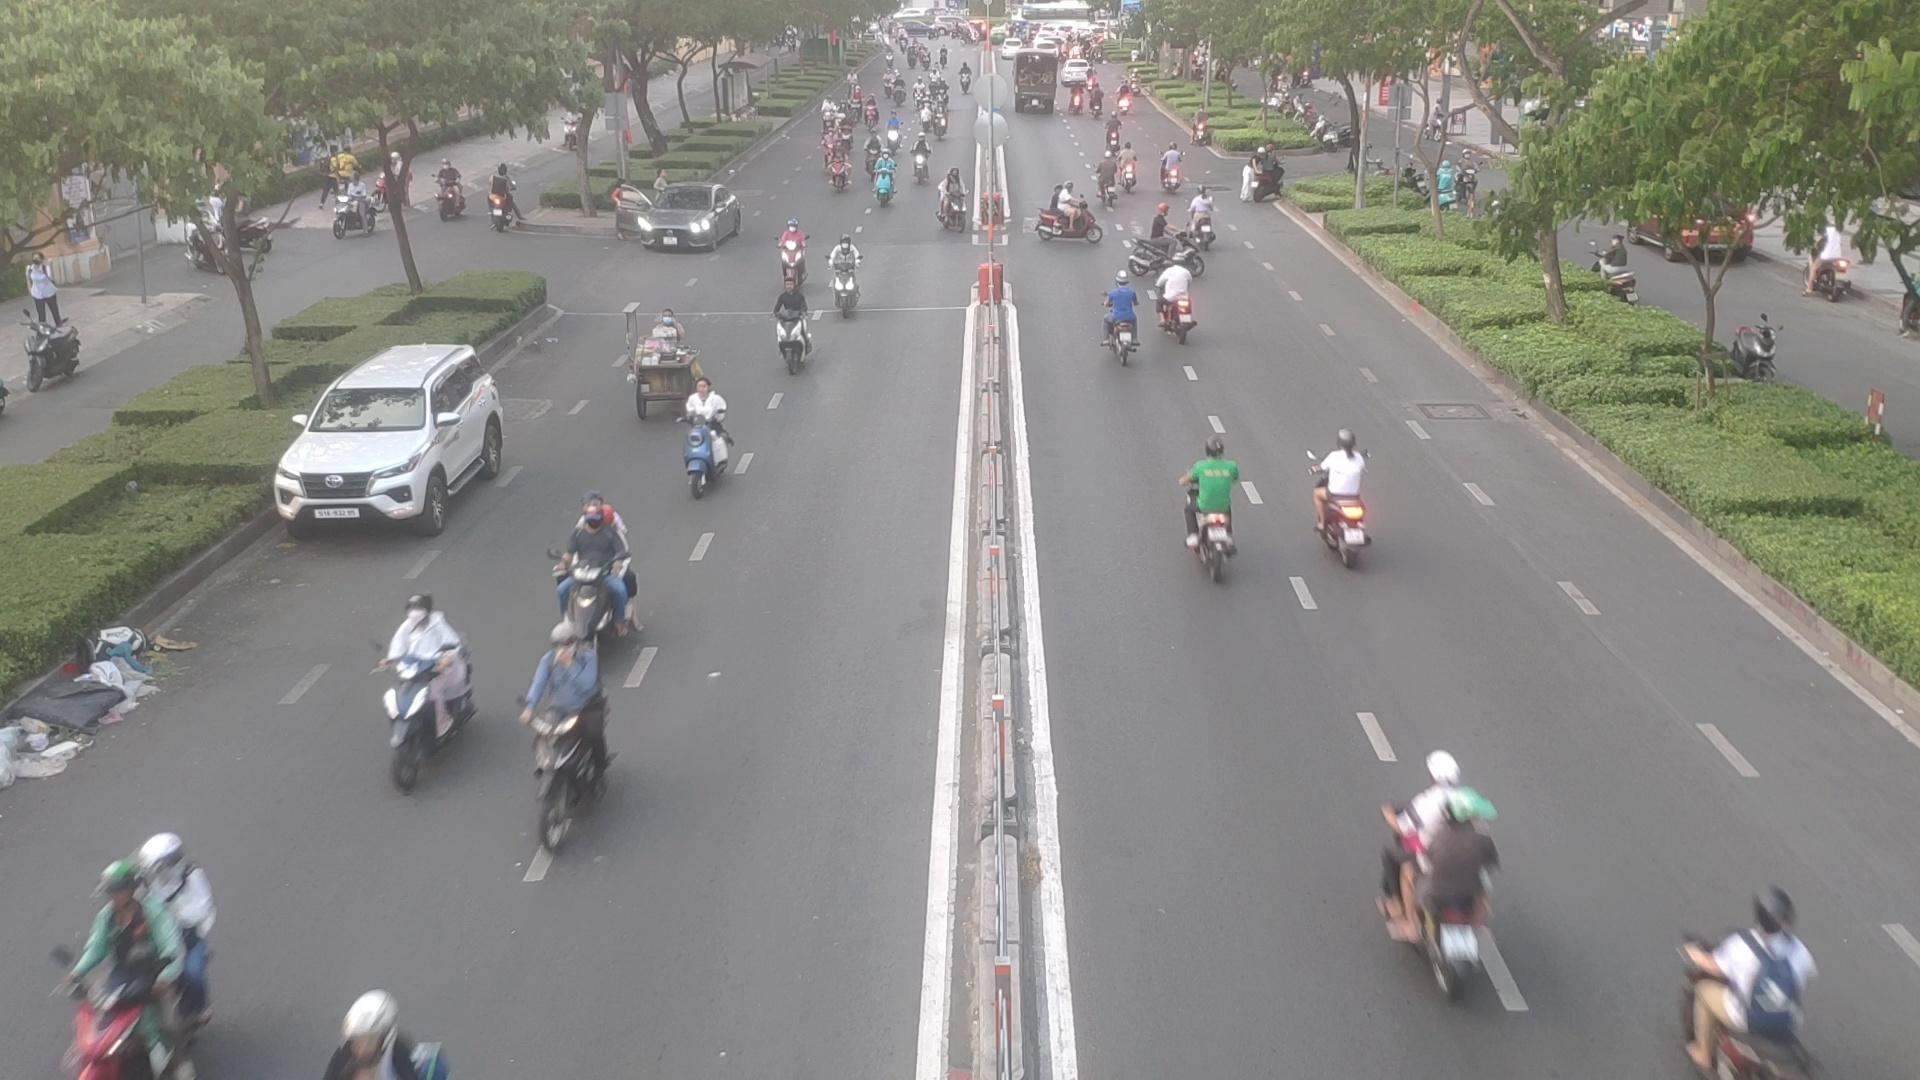car: (277, 345, 520, 537), (620, 189, 756, 257)
motorbike: (69, 829, 218, 1077), (1385, 756, 1518, 992), (1684, 894, 1821, 1075), (531, 636, 632, 848), (369, 599, 477, 785), (560, 506, 647, 649), (1182, 447, 1254, 584), (1313, 431, 1377, 559), (674, 382, 750, 487), (769, 285, 829, 372), (1092, 281, 1145, 368), (823, 237, 872, 318), (1127, 224, 1197, 276), (1034, 196, 1100, 249), (1158, 265, 1203, 342), (774, 218, 818, 277), (1095, 152, 1135, 202)
